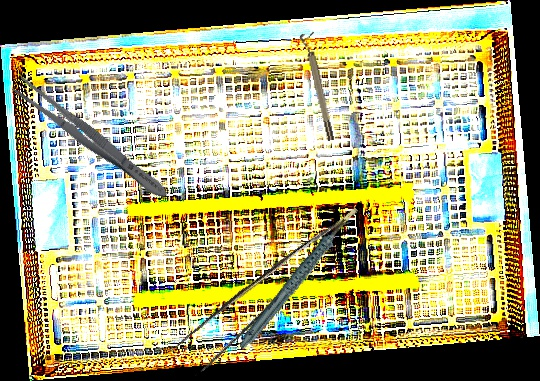Dressing Forceps: (7, 72, 175, 206)
Fixation Ring: (298, 31, 337, 143)
Handpiece: (217, 217, 374, 351)
Tissue Forceps: (169, 206, 381, 377)
